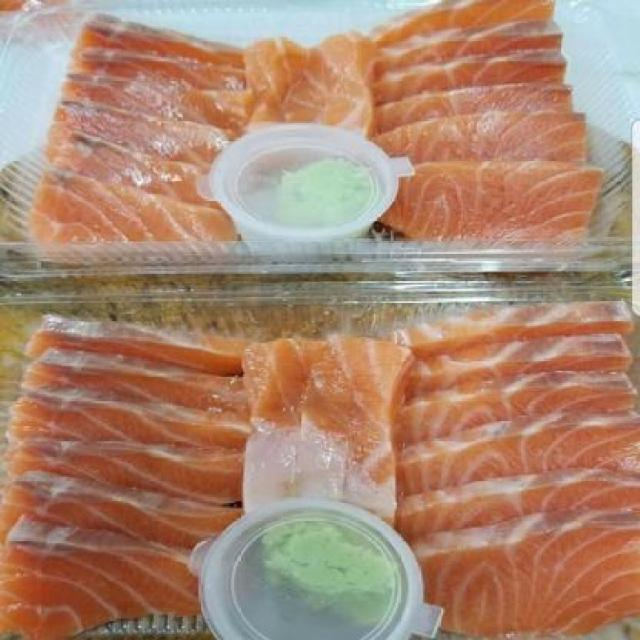salmon: (20, 286, 636, 640), (345, 6, 600, 253), (26, 23, 250, 251), (234, 26, 376, 133)
